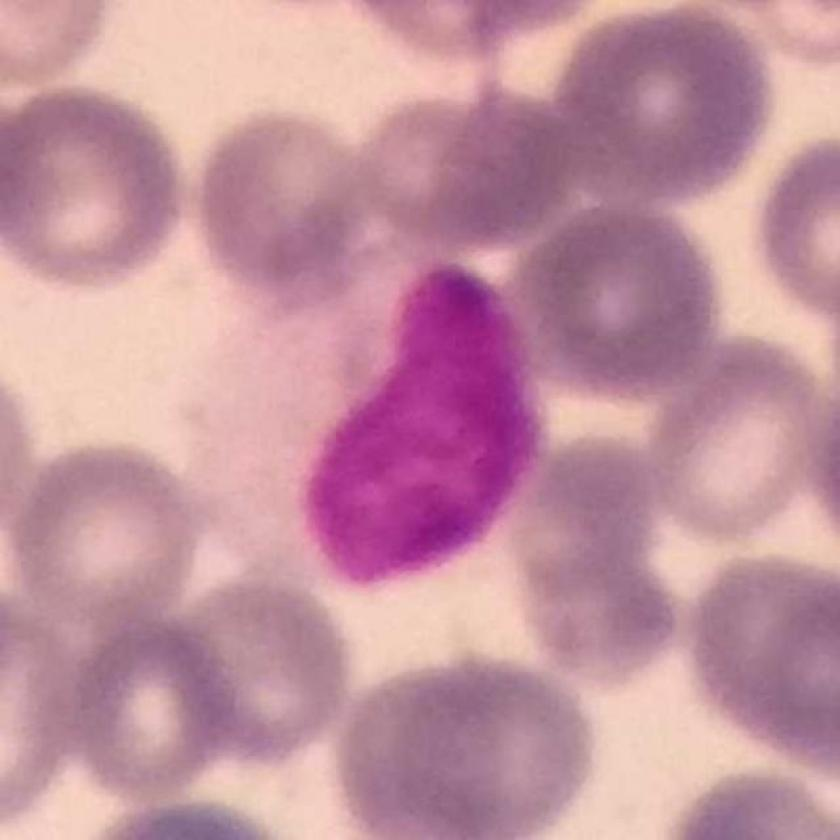monocyte: (174, 226, 555, 592)
